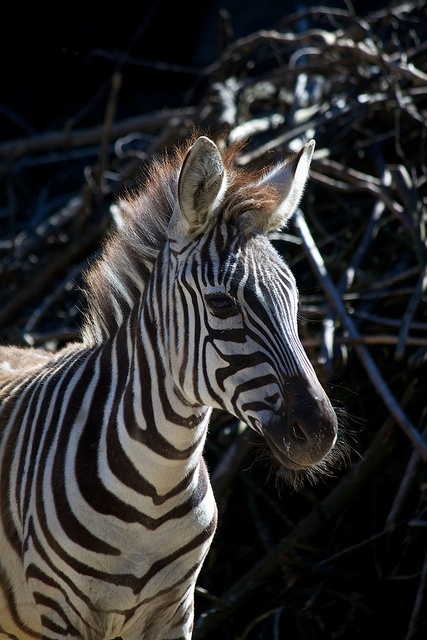zebra: (0, 137, 339, 639)
